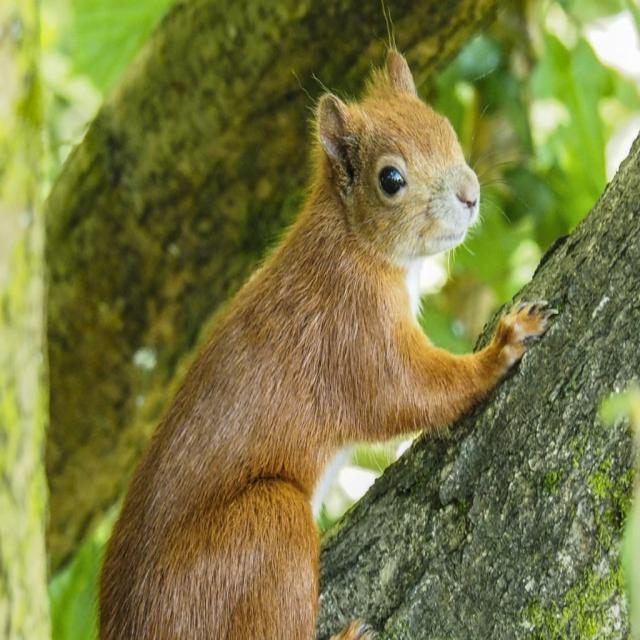Squirrel: (92, 50, 536, 640)
